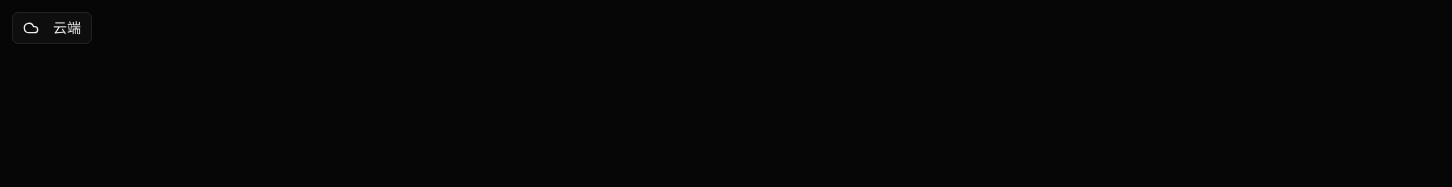
Scenario: CloudWorkflows › 未登录时展示登录入口
The image size is (1452, 187).
Click the button "云端".
click(52, 28)  # box [12, 12, 92, 44]
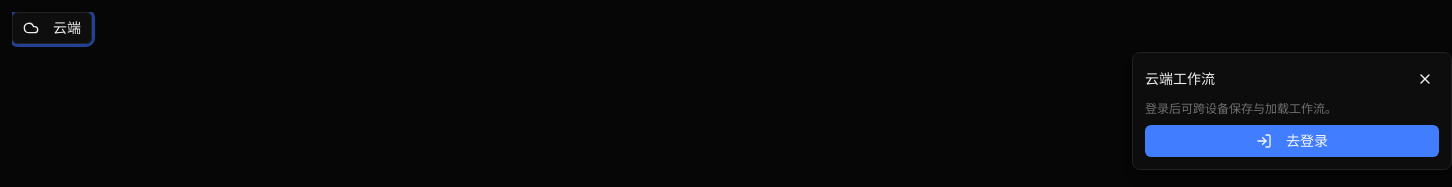
Expected: the text "登录后可跨设备保存与加载工作流。" is shown, [1145, 100, 1337, 117]
